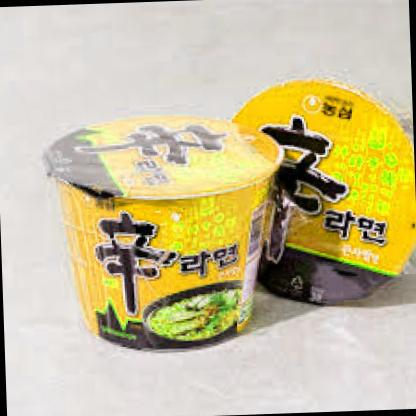Ramen: (42, 115, 290, 346), (220, 67, 416, 311)
